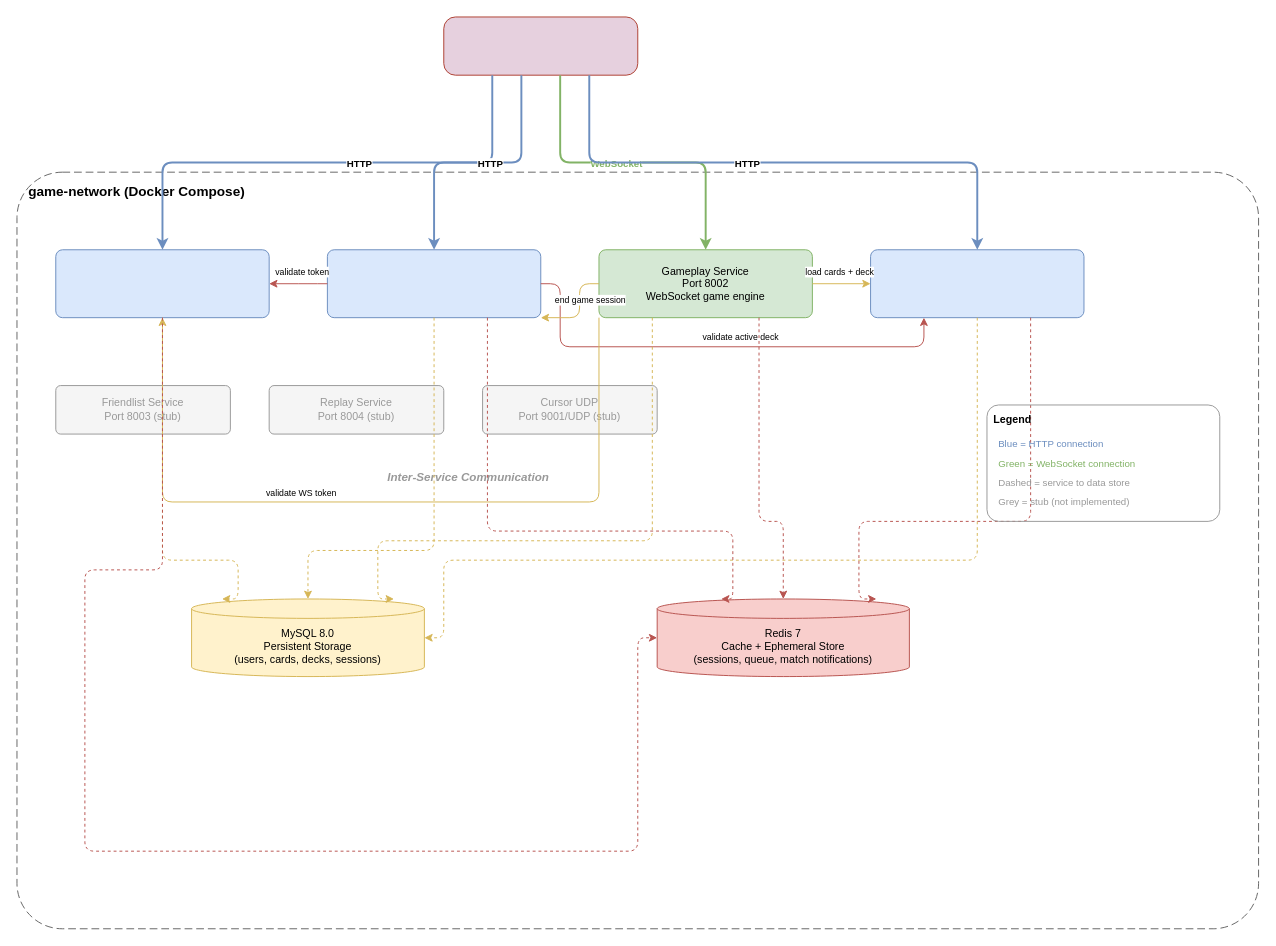
Some shapes in this 1276 by 946 pixel diagram are drawn without their labels. The shapes that lost their labels are listed below. From the top down, each one's centre as x and y in pixels, then its label:
the point at 540,45: Frontend Client (Browser / Mobile)
the point at 162,283: Auth Service Port 8000 login, register, sessions, bans
the point at 433,283: Matchmaking Service Port 8001 queue, MMR matching
the point at 977,283: Deck Service Port 8005 cards, decks, packs, leveling
